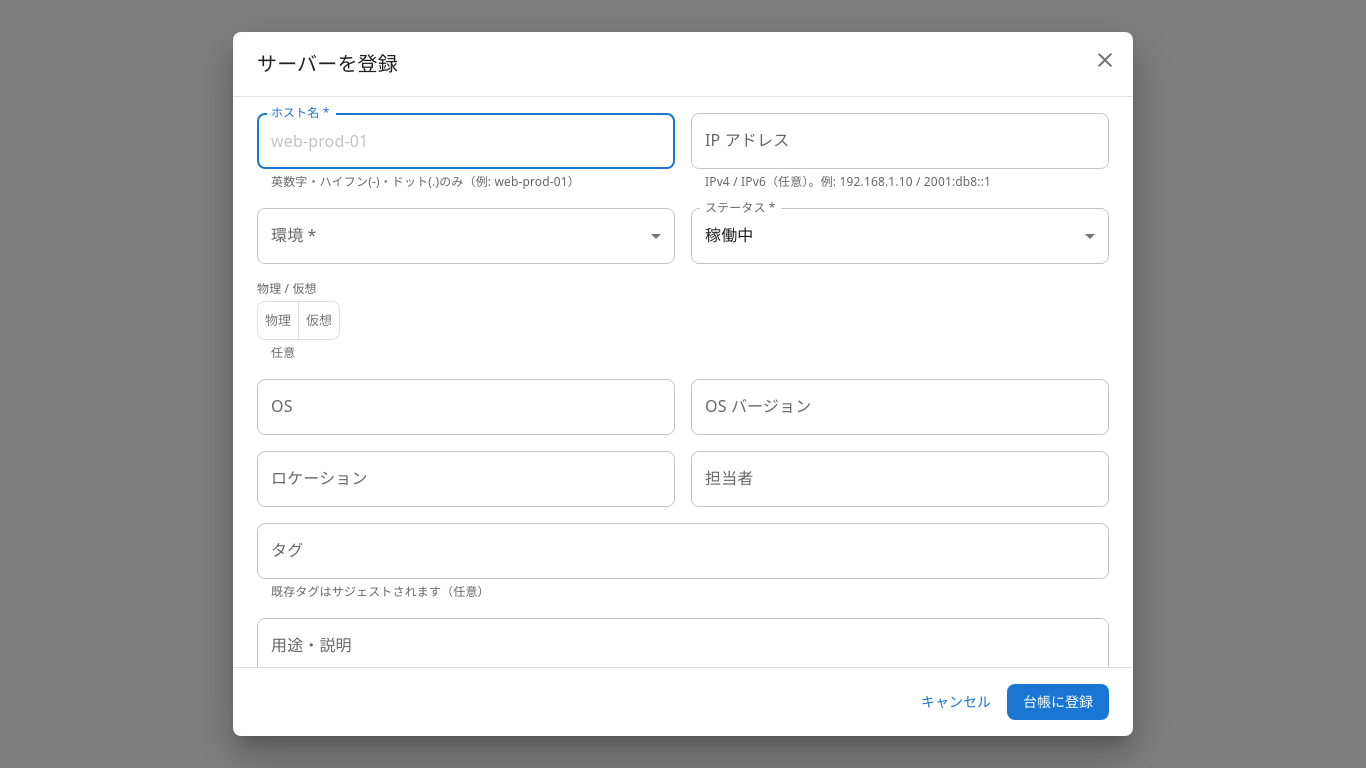
Test: ServerFormModal (create) › hostname 形式エラー（アンダースコア）を検出する
Type "bad_host" into the field labelled "ホスト名 *".
click(466, 141); type("bad_host")  # box [257,113,675,169]
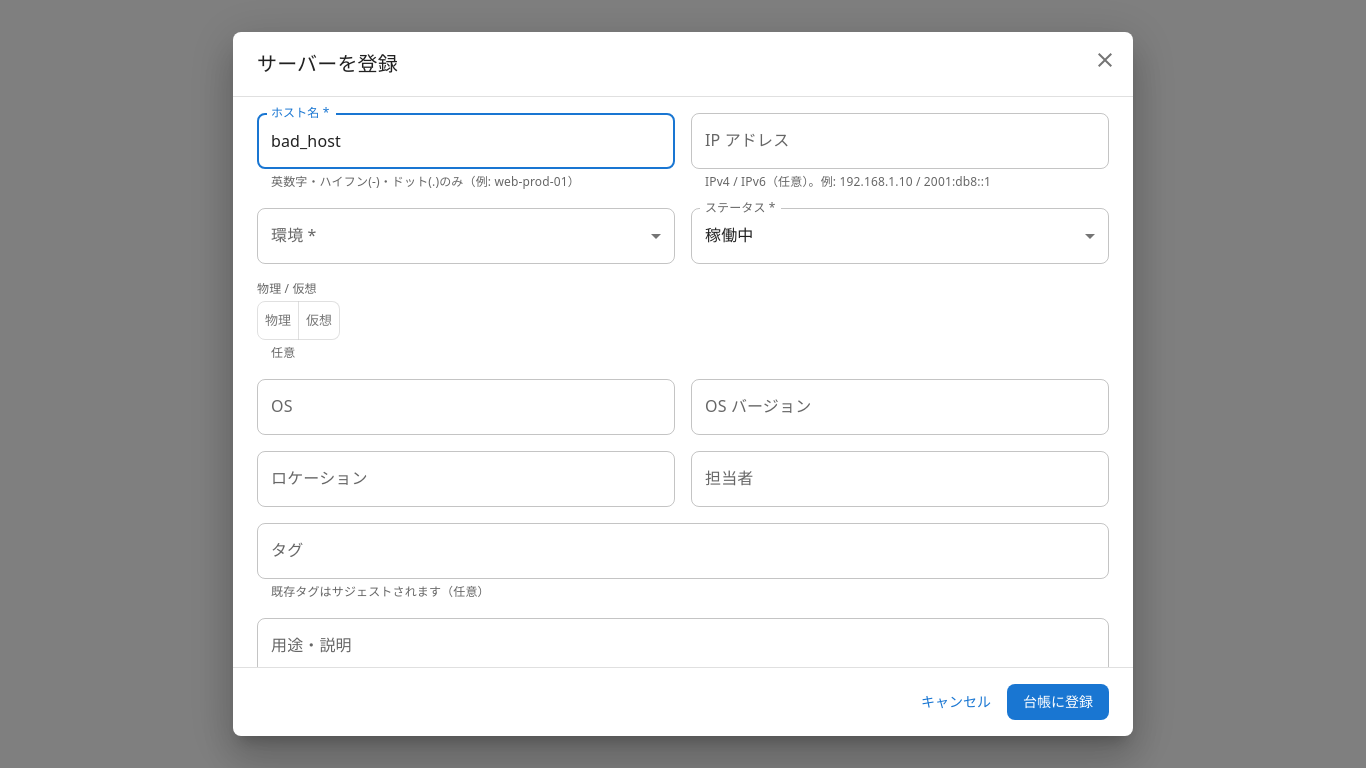
Click the button "台帳に登録".
click(1058, 702)  # box [1007,684,1109,720]
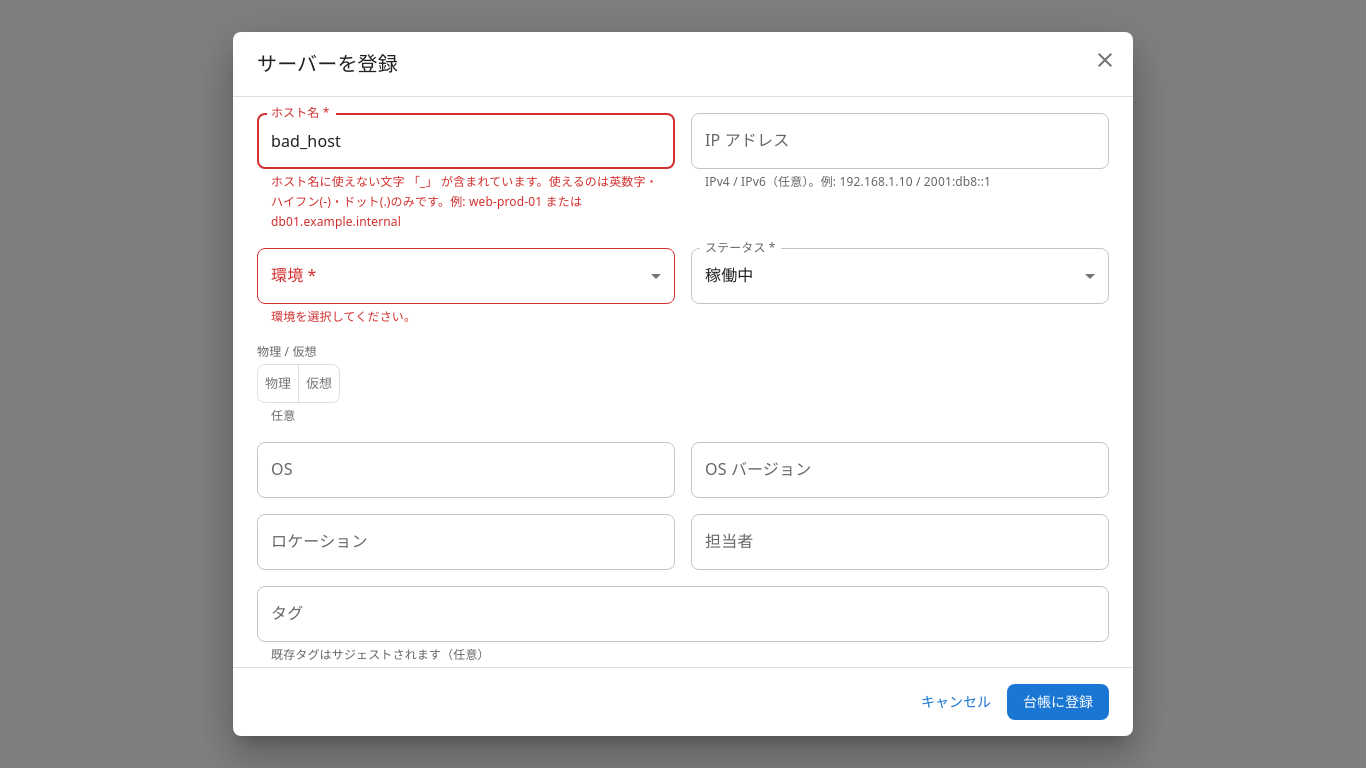
Check: the text "ホスト名に使えない文字 「_」 が含まれています" is shown, box [271,173,658,230]
